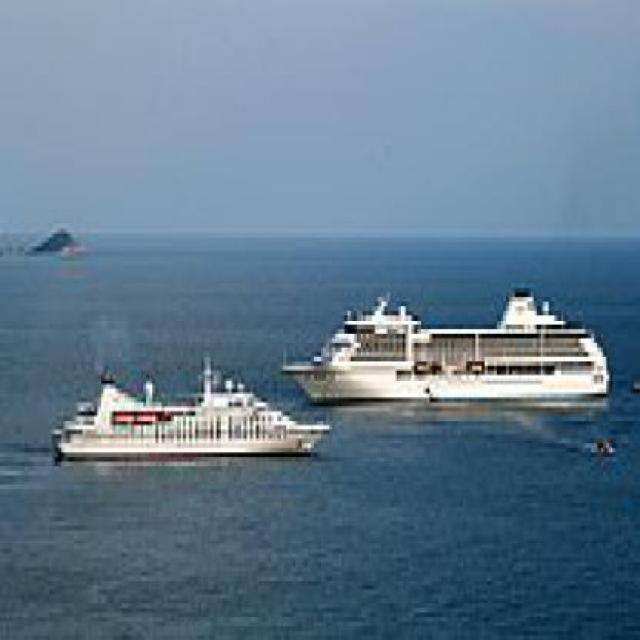cruise: (272, 276, 623, 422), (44, 362, 336, 473)
